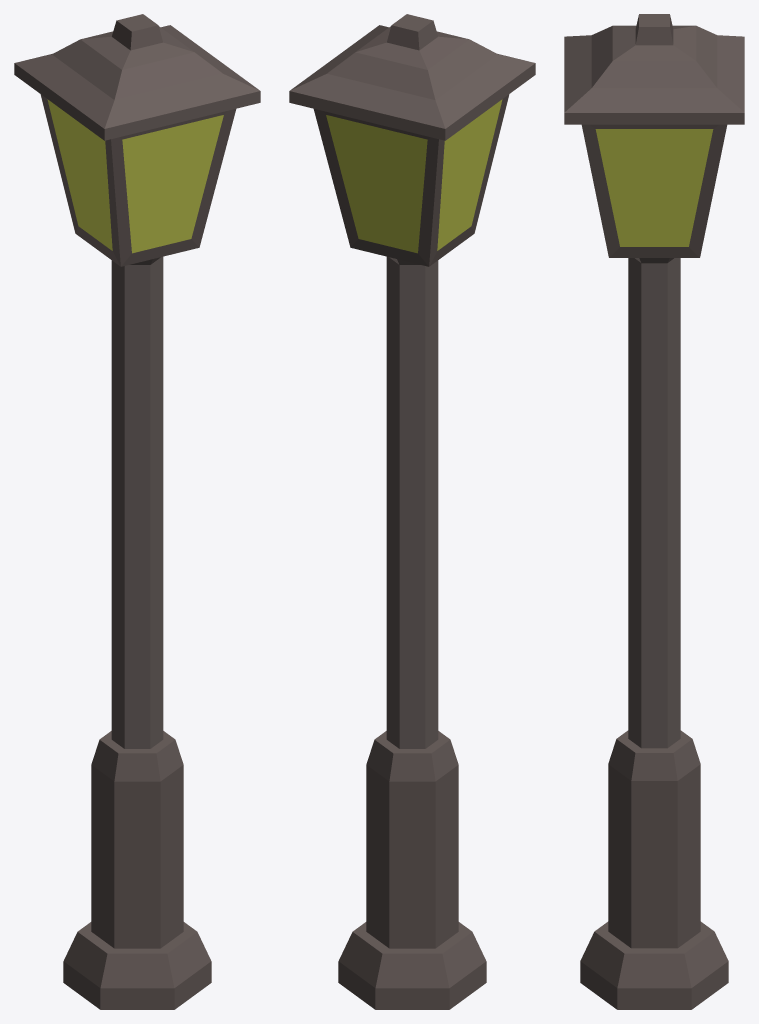
The model's file is StreetLight(2).fbx.
3 views of the same model, side by side, from view 1: azimuth 30°, elevation 25°; view 2: azimuth 150°, elevation 25°; view 3: azimuth 270°, elevation 25° (orthographic).
Parts seen in each view (by area): view 1: StreetLight(2); view 2: StreetLight(2); view 3: StreetLight(2).
Boxes of the visible parts, <box> form: StreetLight(2): <box>14,14,260,1009</box>; StreetLight(2): <box>289,14,535,1009</box>; StreetLight(2): <box>564,14,744,1009</box>.
Size of the model in its own units: 48.65 by 286 by 48.65.
